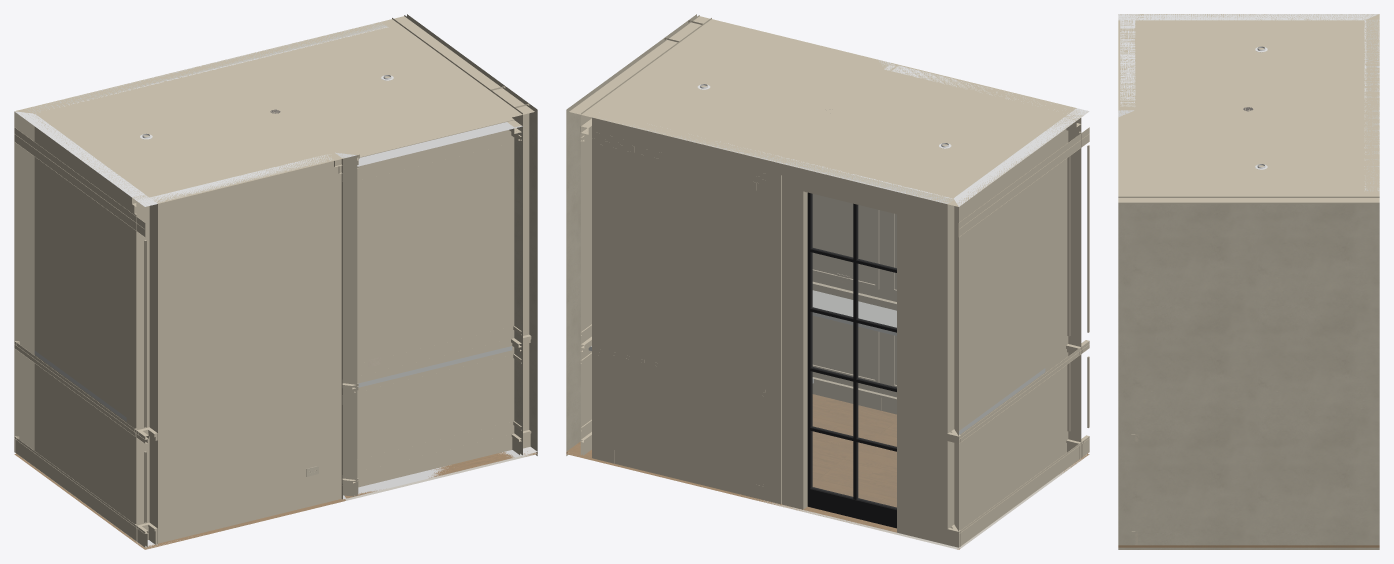
File: pantry-bdede94e672f.glb
The picture shows the model from 3 angles, left to right: view 1: azimuth 30°, elevation 25°; view 2: azimuth 150°, elevation 25°; view 3: azimuth 270°, elevation 25°; orthographic projection.
Parts seen in each view (by area): view 1: pantry-e1ae12ec9cba52a2, pantry-e64cabe238f3e83a, pantry-2575515a05775d9e, pantry-5b6bbac285e58726, pantry-6a1144f4e43410bb, pantry-e462de76b61e99cf, pantry-1b1dac62f3b0f38e, pantry-ab25ce0be192bde7, pantry-2c29ddcb8551cb02, pantry-e54d813e60c9e7c4, pantry-3b0077416469e01b, pantry-4b4a529ae091588b (+10 smaller); view 2: pantry-bd4023b7987ad736, pantry-2575515a05775d9e, pantry-5b6bbac285e58726, pantry-391f310680cc5508, pantry-e64cabe238f3e83a, pantry-af97eba351c411ae, pantry-3b0077416469e01b, pantry-e1ae12ec9cba52a2, pantry-2c29ddcb8551cb02, pantry-e54d813e60c9e7c4, pantry-1fae004be5e077cf, pantry-af1041973fdfbb5e (+12 smaller); view 3: pantry-af97eba351c411ae, pantry-2575515a05775d9e, pantry-ab25ce0be192bde7, pantry-e462de76b61e99cf, pantry-4b4a529ae091588b, pantry-5b6bbac285e58726, pantry-e1ae12ec9cba52a2, pantry-ecf72e0057751250, pantry-710b1f455b9f0804, pantry-bd4023b7987ad736, pantry-3b0077416469e01b, pantry-76fec1e12e3db62a.
Boxes of the visible parts, x1,y1,x2,y2 form: pantry-e1ae12ec9cba52a2: (149,154,341,543); pantry-e64cabe238f3e83a: (342,122,522,495); pantry-2575515a05775d9e: (15,15,534,203); pantry-5b6bbac285e58726: (14,111,149,540); pantry-6a1144f4e43410bb: (136,197,157,546); pantry-e462de76b61e99cf: (514,104,537,455); pantry-1b1dac62f3b0f38e: (135,434,512,524); pantry-ab25ce0be192bde7: (490,86,529,431); pantry-2c29ddcb8551cb02: (14,437,145,547); pantry-e54d813e60c9e7c4: (14,127,145,236); pantry-3b0077416469e01b: (14,451,537,549); pantry-4b4a529ae091588b: (35,27,391,116); pantry-bd4023b7987ad736: (592,117,954,544); pantry-2575515a05775d9e: (569,15,1087,206); pantry-5b6bbac285e58726: (953,114,1081,547); pantry-391f310680cc5508: (811,194,896,508); pantry-e64cabe238f3e83a: (812,194,883,393); pantry-af97eba351c411ae: (566,37,679,455); pantry-3b0077416469e01b: (566,394,1089,549); pantry-e1ae12ec9cba52a2: (883,64,1067,397); pantry-2c29ddcb8551cb02: (959,437,1089,547); pantry-e54d813e60c9e7c4: (958,127,1089,236); pantry-1fae004be5e077cf: (810,487,896,528); pantry-af1041973fdfbb5e: (807,192,812,506); pantry-af97eba351c411ae: (1183,196,1379,545); pantry-2575515a05775d9e: (1118,14,1379,203); pantry-ab25ce0be192bde7: (1135,196,1182,545); pantry-e462de76b61e99cf: (1118,196,1135,545); pantry-4b4a529ae091588b: (1355,20,1364,192); pantry-5b6bbac285e58726: (1135,14,1378,20); pantry-e1ae12ec9cba52a2: (1120,20,1135,106); pantry-ecf72e0057751250: (1368,19,1376,192); pantry-710b1f455b9f0804: (1135,14,1144,109); pantry-bd4023b7987ad736: (1364,19,1379,191); pantry-3b0077416469e01b: (1118,545,1379,547); pantry-76fec1e12e3db62a: (1118,547,1379,549).
Size of the model in its own units: 3.62 by 3.05 by 2.09.
Materials: 21 (4 with a texture image).
